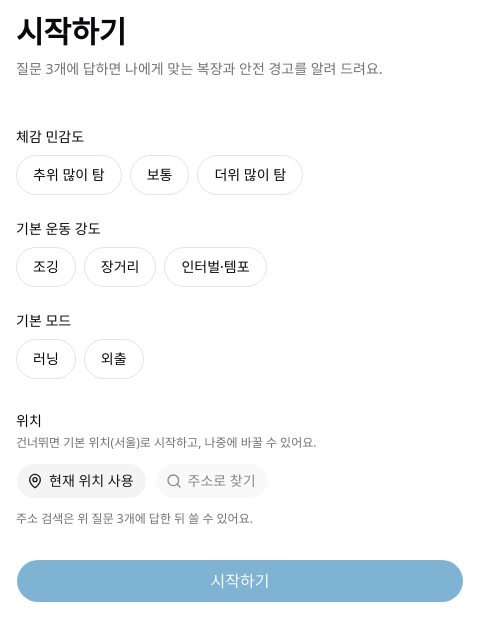
Test: OnboardingScreen › 질문 3개에 모두 답하기 전에는 '시작하기'가 비활성화된다
The width and height of the screenshot is (481, 619).
Check: the button "시작하기" is disabled, box [16,558,464,602]
Click the button "추위 많이 탐": {"x": 69, "y": 174} [16,154,122,194]
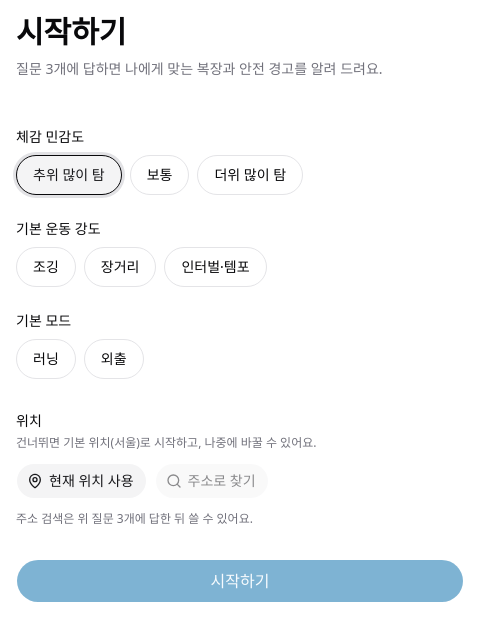
Click the button "조깅": {"x": 46, "y": 266} [16,246,76,286]
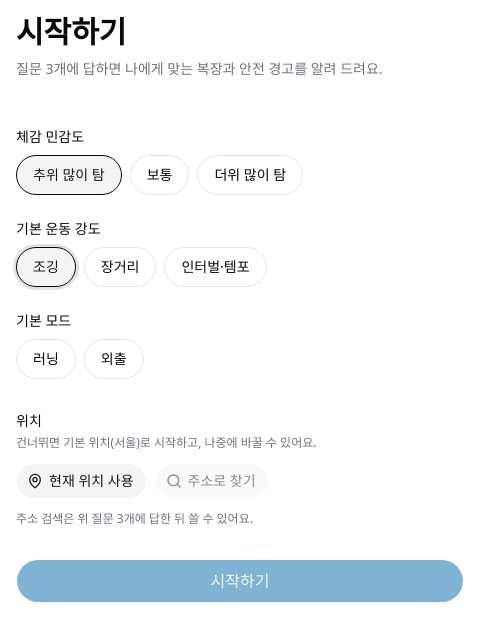
Check: the button "시작하기" is disabled, box [16,558,464,602]
Click the button "러닝": {"x": 46, "y": 358} [16,338,76,378]
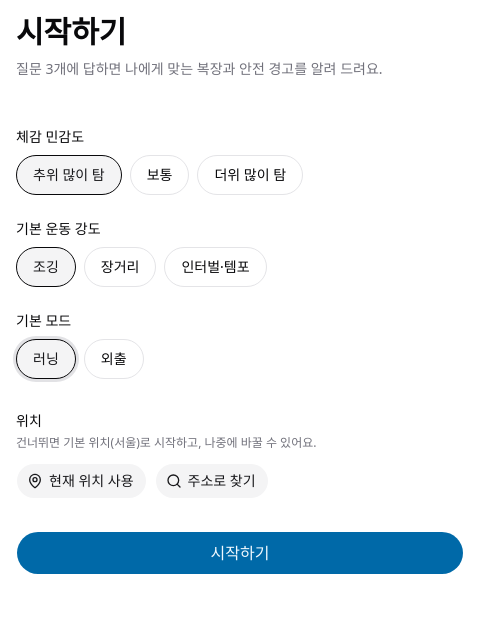
Check: the button "시작하기" is enabled, box [16,530,464,574]
